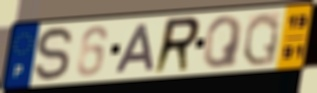6: (75, 24, 110, 79)
A: (113, 22, 156, 75)
Q: (201, 14, 245, 71), (240, 11, 282, 68)
R: (151, 15, 203, 77)
S: (33, 25, 75, 84)
